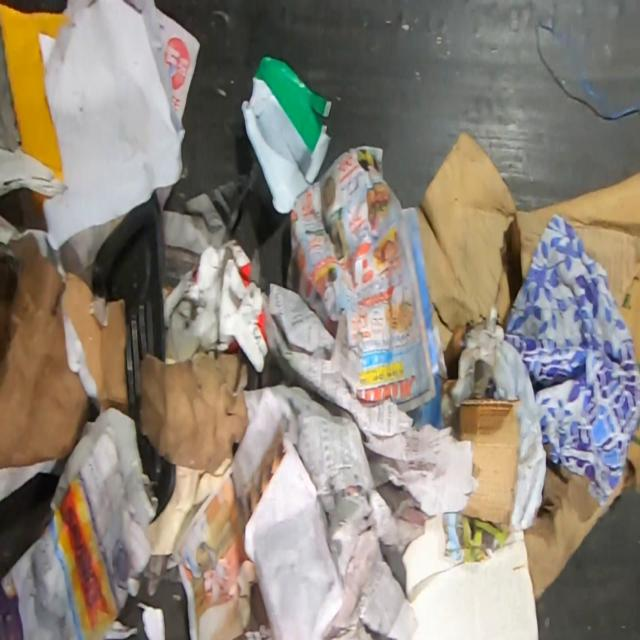cardboard: (416, 121, 640, 609), (0, 234, 127, 469), (138, 344, 253, 477), (457, 393, 522, 539)
rigid_plastic: (92, 200, 170, 525), (238, 53, 334, 218)
